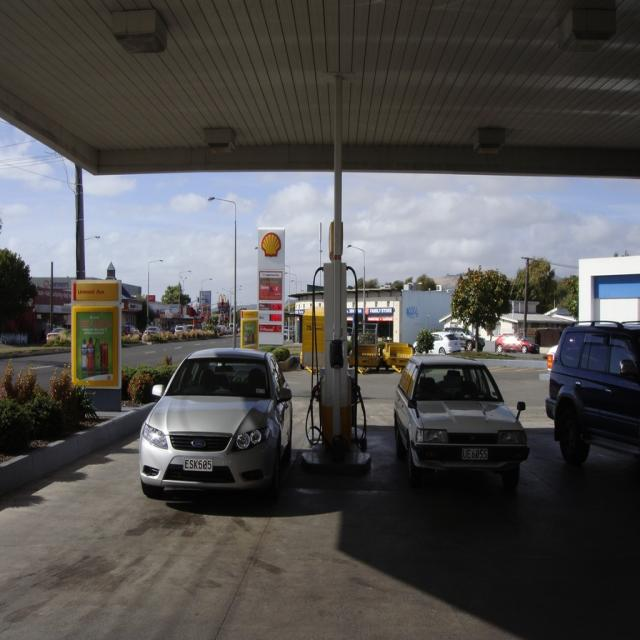shell: (263, 234, 282, 258)
